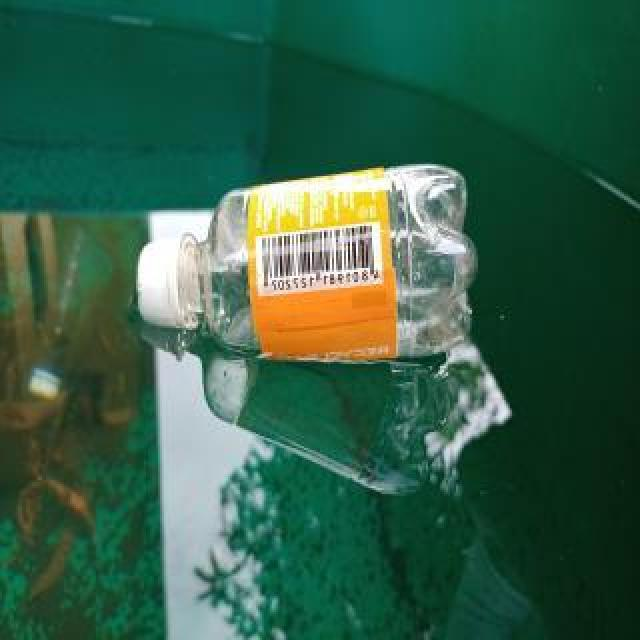Bottle: (127, 154, 484, 378)
